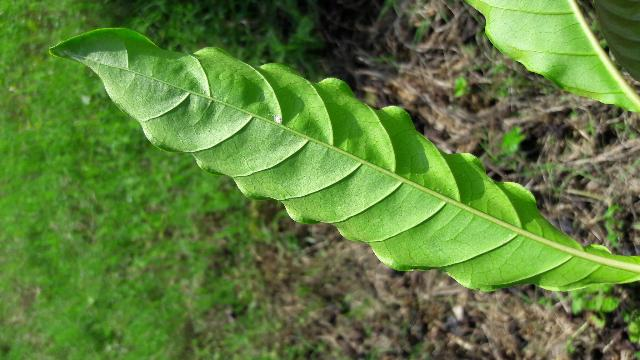healthy: (50, 27, 640, 292)
